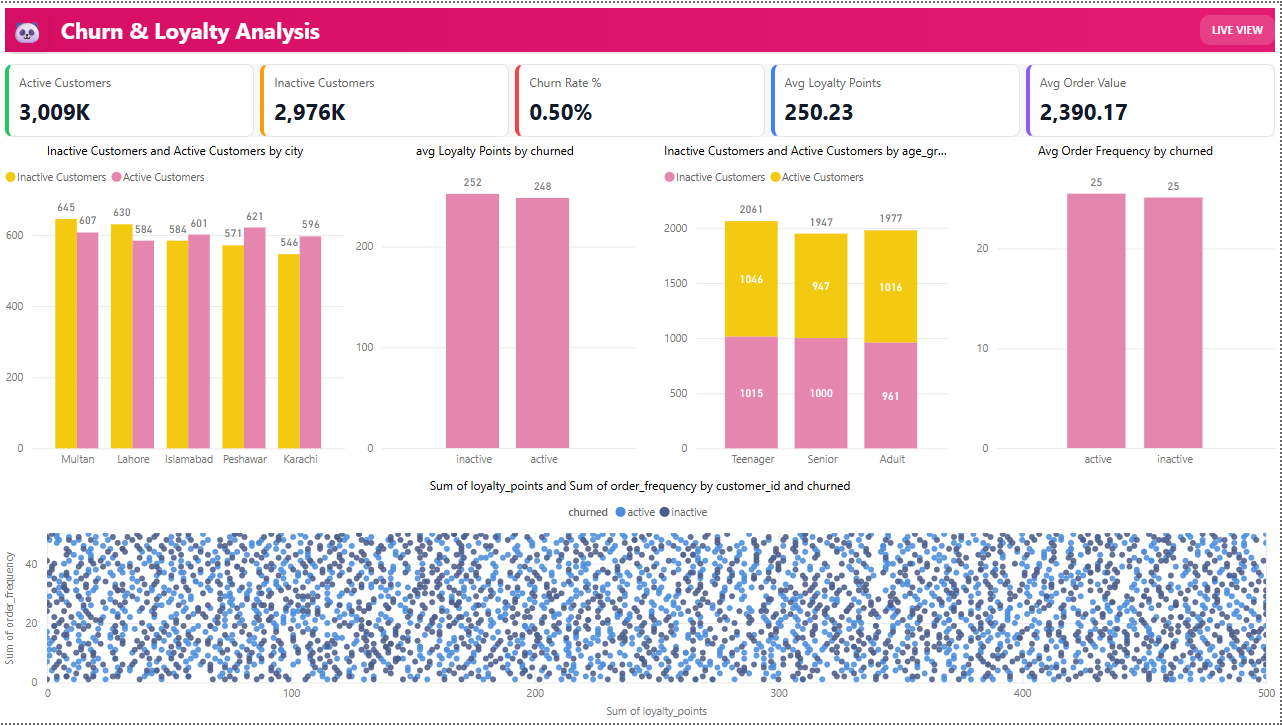

The dashboard page shown, as its layout file describes it:
{"tool":"powerbi","page":{"name":"Churn & Loyalty Analysis","canvas":[1280,720],"ordinal":4},"visuals":[{"type":"htmlContent443BE3AD55E043BF878BED274D3A6855","fields":{"content":["Foodpanda.Churn & Loyalty Analysis Title HTML"]},"box":[0,0,1280,55.7],"z":0},{"type":"scatterChart","fields":{"X":["Sum(Foodpanda.loyalty_points)"],"Y":["Sum(Foodpanda.order_frequency)"],"Series":["Foodpanda.churned"],"Category":["Foodpanda.customer_id"]},"box":[0,474.3,1280,245.7],"z":1000},{"type":"clusteredColumnChart","fields":{"Category":["Foodpanda.city"],"Y":["Foodpanda.Inactive Customers","Foodpanda.Active Customers"]},"box":[0,138.6,350,335.7],"z":2000},{"type":"clusteredColumnChart","fields":{"Category":["Foodpanda.churned"],"Y":["Foodpanda.Avg Order Frequency"]},"box":[971.4,138.6,308.6,335.7],"z":3000},{"type":"columnChart","fields":{"Category":["Foodpanda.age_group"],"Y":["Foodpanda.Inactive Customers","Foodpanda.Active Customers"]},"box":[658.6,138.6,294.3,335.7],"z":4000},{"type":"columnChart","fields":{"Category":["Foodpanda.churned"],"Y":["Foodpanda.avg Loyalty Points"]},"box":[350,138.6,290,335.7],"z":5000},{"type":"htmlContent443BE3AD55E043BF878BED274D3A6855","fields":{"content":["Foodpanda.Retention KPI Group HTML"]},"box":[0,55.7,1280,82.9],"z":6000}]}

Visuals, with their boxes in screenshot pixels (x1, y1, x2, y2), scaled from the page's 1280x720 canvas onto the 1282x726 screenshot:
htmlContent443BE3AD55E043BF878BED274D3A6855 - Foodpanda.Churn & Loyalty Analysis Title HTML: (0, 0, 1281, 56)
scatterChart - Sum(Foodpanda.loyalty_points) x Sum(Foodpanda.order_frequency): (0, 478, 1281, 725)
clusteredColumnChart - Foodpanda.city x Foodpanda.Inactive Customers: (0, 140, 351, 478)
clusteredColumnChart - Foodpanda.churned x Foodpanda.Avg Order Frequency: (973, 140, 1281, 478)
columnChart - Foodpanda.age_group x Foodpanda.Inactive Customers: (660, 140, 954, 478)
columnChart - Foodpanda.churned x Foodpanda.avg Loyalty Points: (351, 140, 641, 478)
htmlContent443BE3AD55E043BF878BED274D3A6855 - Foodpanda.Retention KPI Group HTML: (0, 56, 1281, 140)
